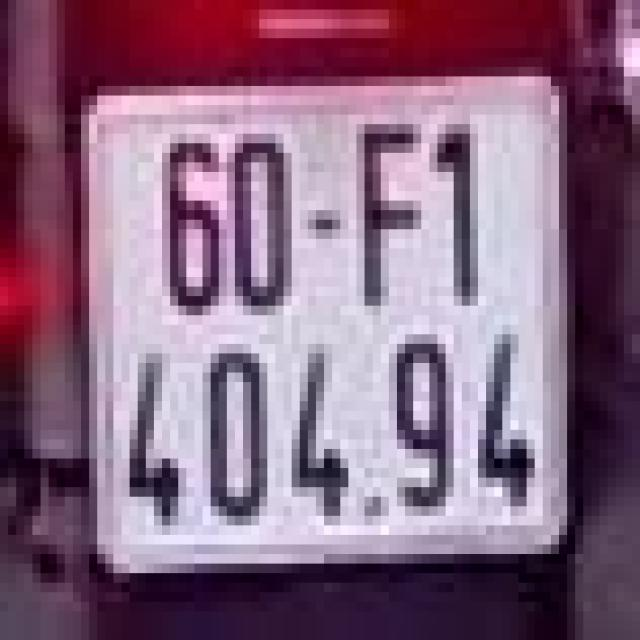0: (190, 325, 280, 525), (227, 124, 308, 325)
1: (434, 105, 490, 315)
4: (114, 334, 194, 535), (466, 334, 547, 526), (280, 330, 352, 530)
6: (142, 129, 231, 320)
9: (385, 320, 458, 521)
F: (352, 105, 433, 306)
